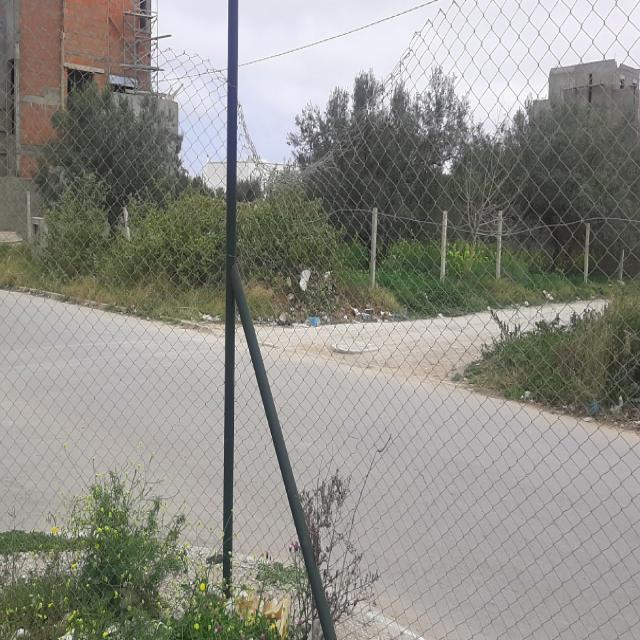fence line: (245, 68, 406, 174)
